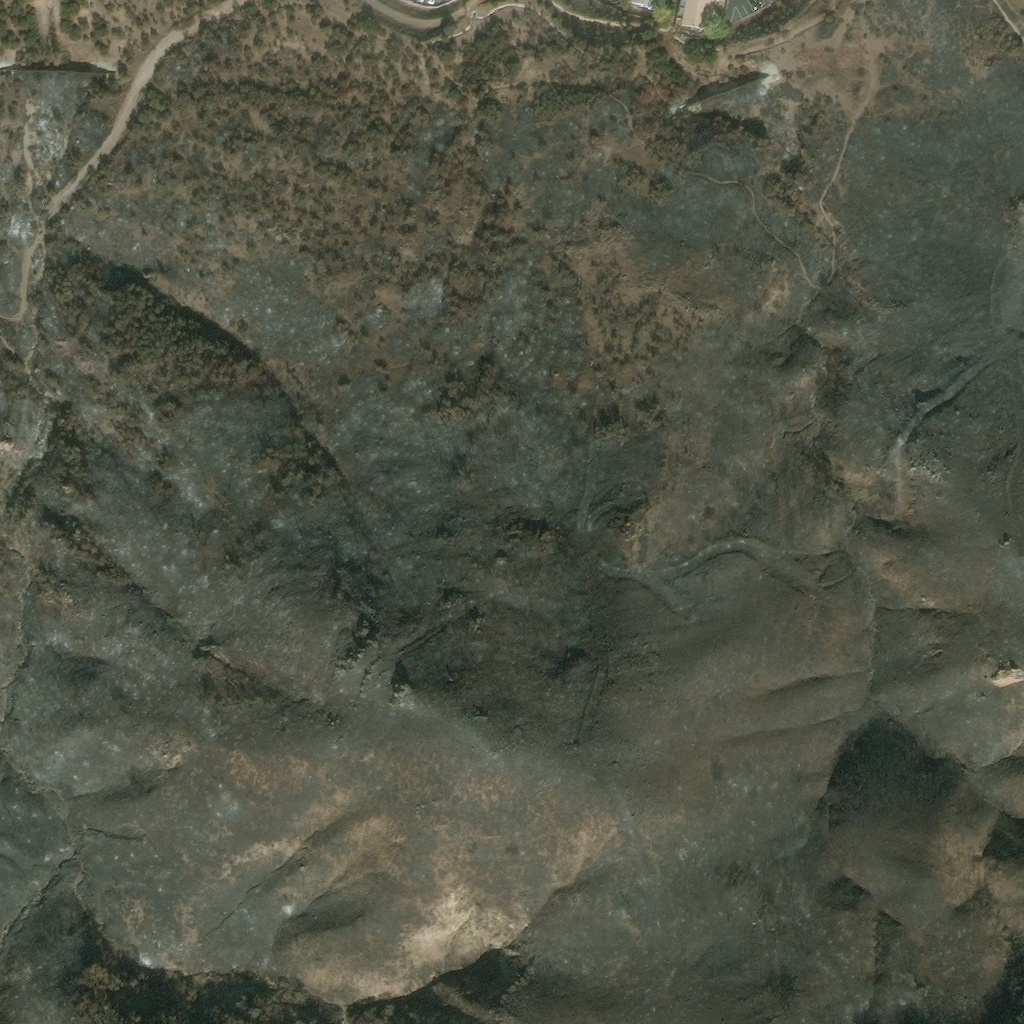0 no-damage: (677, 0, 729, 35)
4 un-classified: (631, 0, 652, 11)
